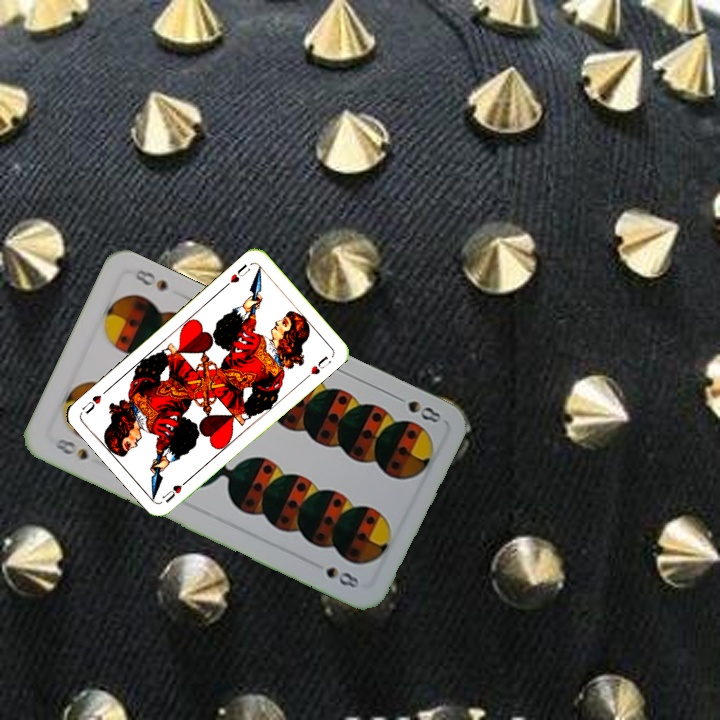HU: (158, 475, 192, 505), (221, 259, 253, 290)
S8: (389, 390, 446, 426), (50, 434, 91, 463)
